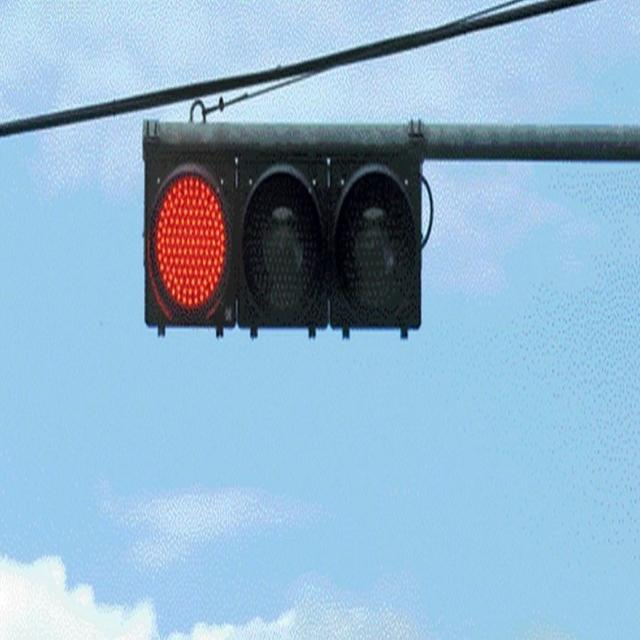red_light: (122, 121, 438, 344)
